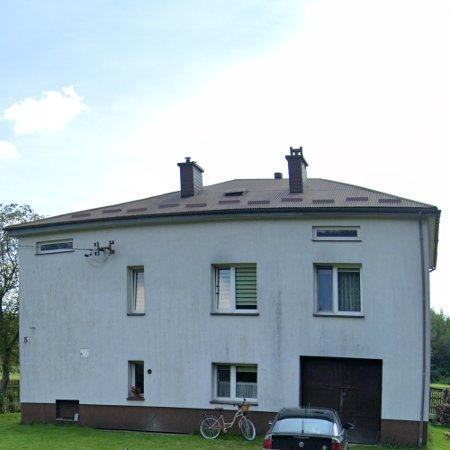chimneys: (177, 157, 204, 198), (286, 147, 309, 194)
